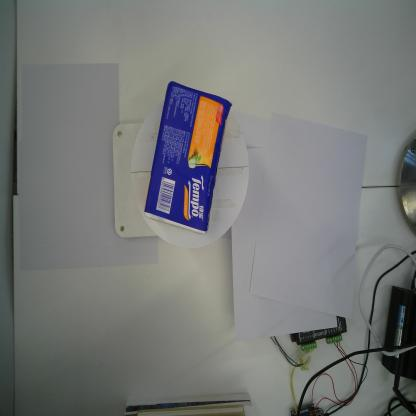Tissue: (143, 80, 232, 235)
